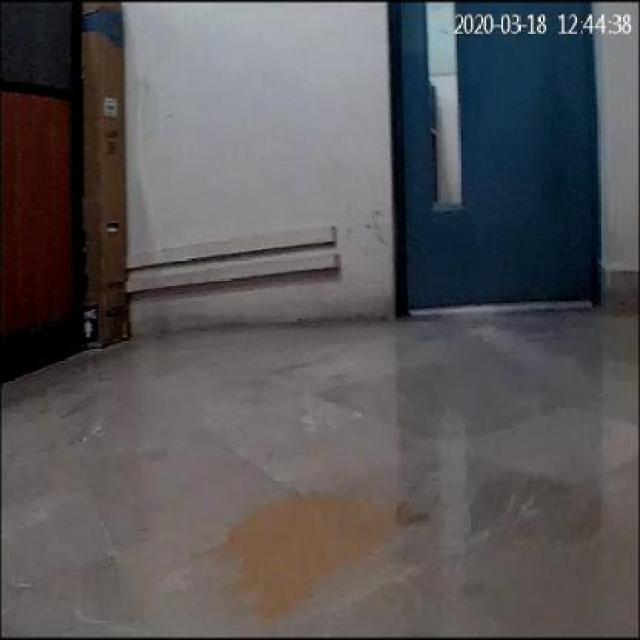spill: (209, 496, 397, 613)
